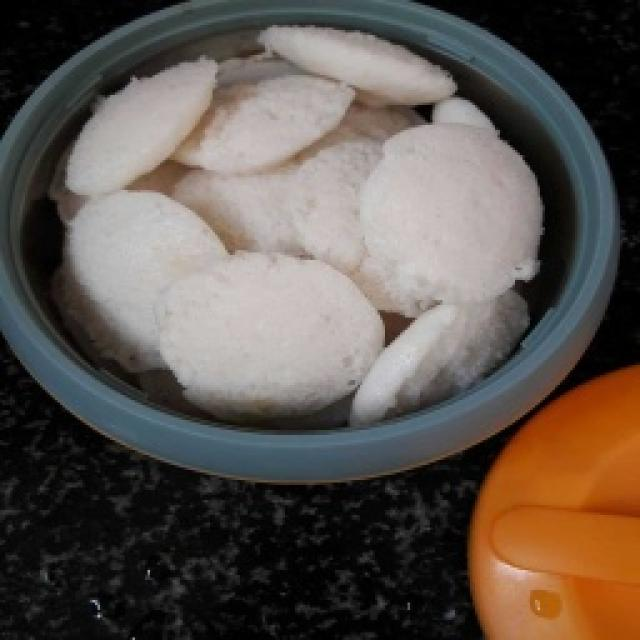idli: (38, 77, 556, 401)
